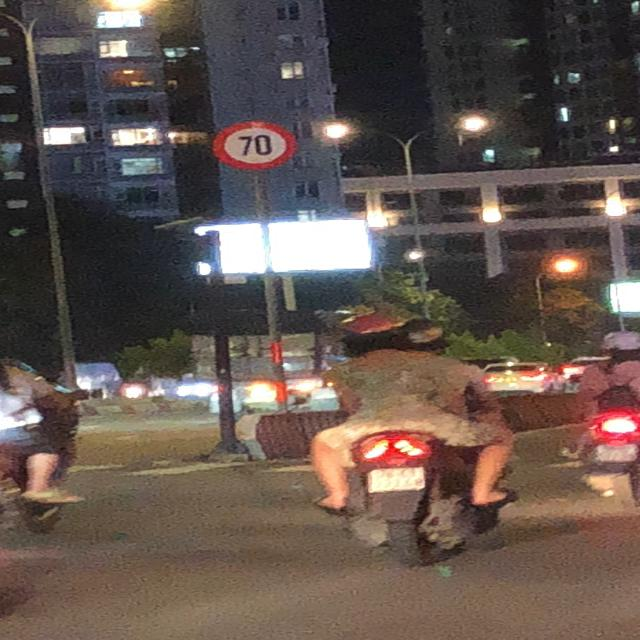Bien bao toc do toi da cho phep: (201, 118, 305, 177)
